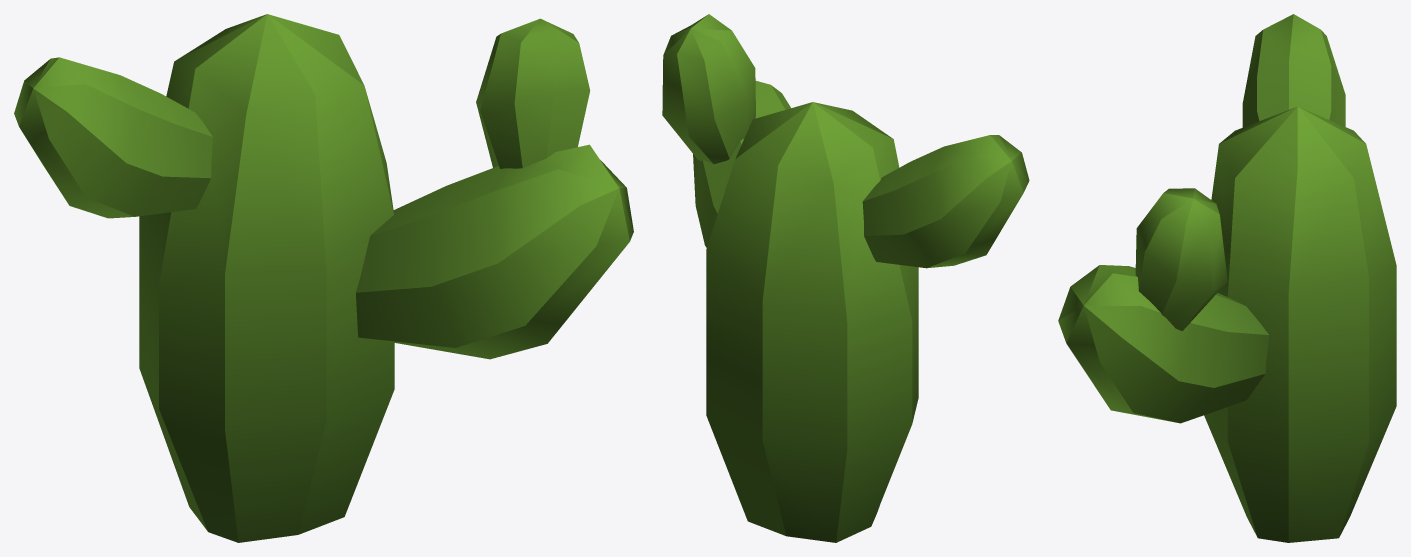
The model's file is Cactus.fbx.
3 renders of one model, left to right at view 1: azimuth 30°, elevation 25°; view 2: azimuth 150°, elevation 25°; view 3: azimuth 270°, elevation 25°, orthographic. The views are drawn at different scales.
Visible parts, largest first — view 1: Cactus; view 2: Cactus; view 3: Cactus.
Part boxes in pixels (bbox=[...]): Cactus: bbox=[14, 14, 633, 542]; Cactus: bbox=[662, 14, 1029, 542]; Cactus: bbox=[1058, 14, 1396, 542].
Bounding box in the file's own units: 25.03 × 24.13 × 17.69.
